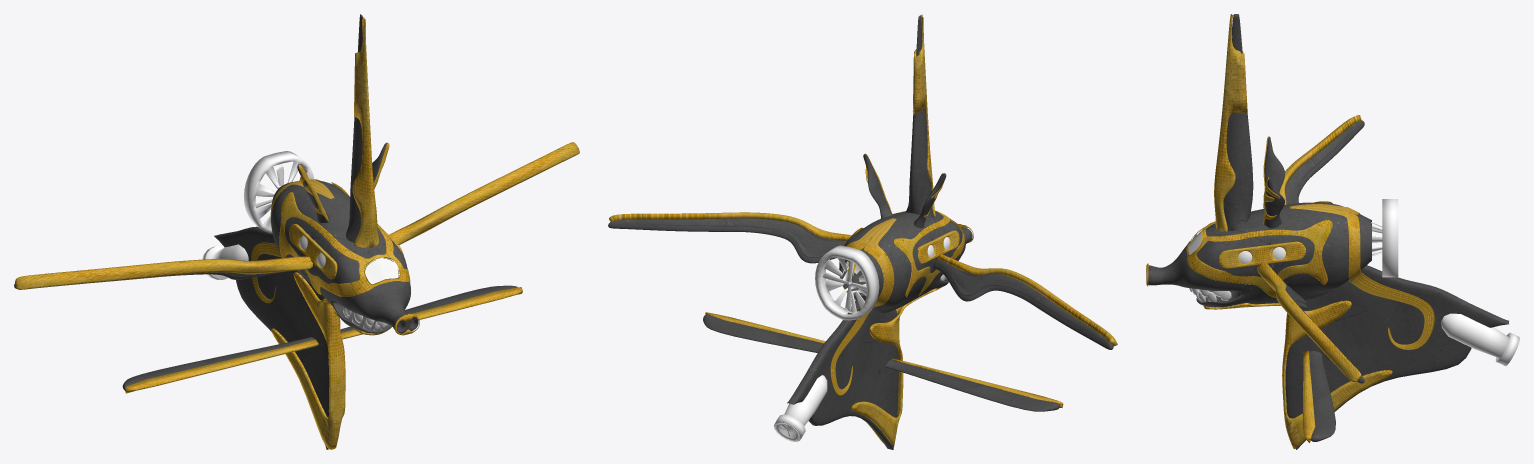
Rendered from PigShip.gltf.
3 renders of one model, left to right at view 1: azimuth 30°, elevation 25°; view 2: azimuth 150°, elevation 25°; view 3: azimuth 270°, elevation 25°, orthographic. The views are drawn at different scales.
Visible parts, largest first — view 1: Cylinder, Plane.003, wingBack, wingBack.005, Plane.004, Cylinder.004, wingBack.004, Cylinder.003, wingBack.001, Plane.001, Circle, Cylinder.006 (+3 smaller); view 2: wingBack, Plane, Cylinder, wingBack.001, Plane.003, Cylinder.003, Cylinder.006, wingBack.005, Plane.001, Cylinder.001, Cylinder.004, Plane.004 (+3 smaller); view 3: wingBack, Cylinder, Cylinder.004, wingBack.005, Plane.001, Plane.004, Plane.003, Cylinder.006, Cylinder.001, Plane, wingBack.001, Cylinder.003 (+3 smaller).
Part boxes in pixels (x1,y1,x2,y2): Cylinder: (271,180,418,333); Plane.003: (15,142,579,289); wingBack: (214,226,329,449); wingBack.005: (271,272,392,449); Plane.004: (352,17,379,247); Cylinder.004: (279,182,410,296); wingBack.004: (125,287,522,393); Cylinder.003: (244,151,314,233); wingBack.001: (122,285,517,390); Plane.001: (346,14,362,242); Circle: (289,224,403,279); Cylinder.006: (251,179,334,303); wingBack: (787,295,898,449); Plane: (608,218,1113,349); Cylinder: (839,211,972,313); wingBack.001: (703,315,1060,411); Plane.003: (609,212,1117,346); Cylinder.003: (815,245,879,320); Cylinder.006: (830,218,896,395); wingBack.005: (851,287,941,446); Plane.001: (905,15,933,217); Cylinder.001: (774,375,827,441); Cylinder.004: (847,210,965,297); Plane.004: (912,14,935,216); wingBack: (1285,265,1508,449); Cylinder: (1148,202,1371,307); Cylinder.004: (1186,201,1332,297); wingBack.005: (1203,300,1392,449); Plane.001: (1223,14,1253,230); Plane.004: (1214,14,1247,232); Plane.003: (1257,115,1361,381); Cylinder.006: (1289,204,1434,349); Cylinder.001: (1441,313,1519,365); Plane: (1284,120,1364,383); wingBack.001: (1309,351,1335,441); Cylinder.003: (1371,199,1398,277).
Size of the model in its own units: 11.12 by 8.63 by 6.74.
Materials: 6 (3 with a texture image).
